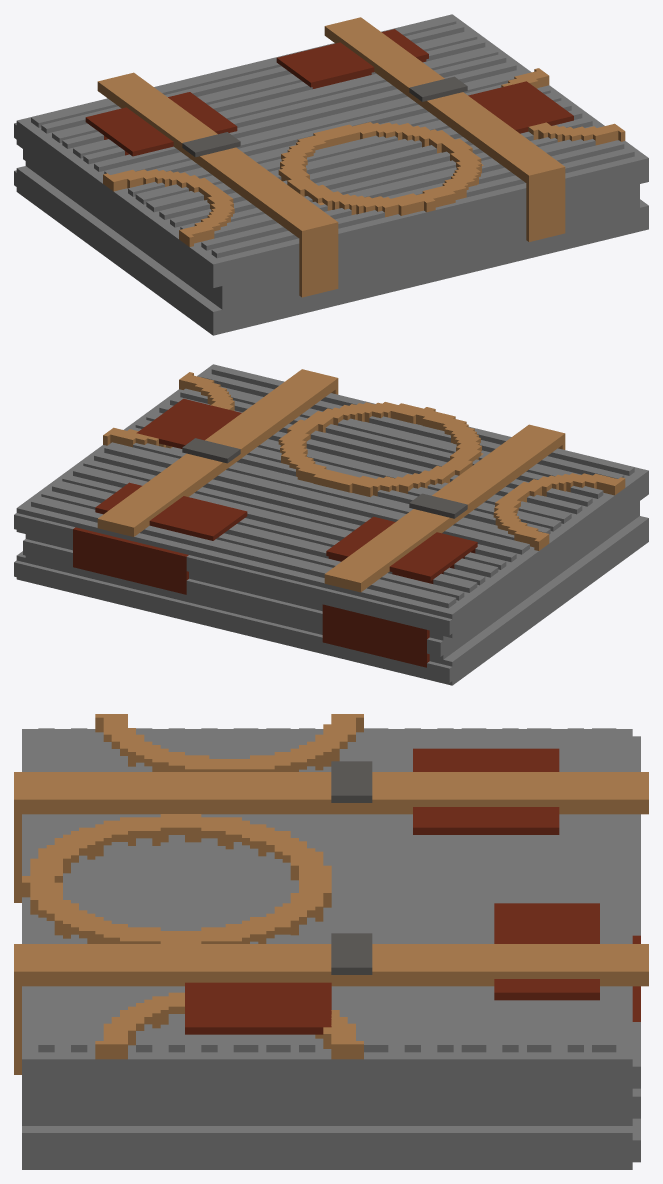
File: chainmail_junk_vest.glb
3 renders of one model, top to bottom at view 1: azimuth 30°, elevation 25°; view 2: azimuth 150°, elevation 25°; view 3: azimuth 270°, elevation 25°, orthographic. The views are drawn at different scales.
Parts seen in each view (by area): view 1: chainmail_junk_vest:compound; view 2: chainmail_junk_vest:compound; view 3: chainmail_junk_vest:compound.
Boxes of the visible parts, <box> form: chainmail_junk_vest:compound: <box>14,14,648,335</box>; chainmail_junk_vest:compound: <box>14,364,648,685</box>; chainmail_junk_vest:compound: <box>14,714,648,1169</box>.
Size of the model in its own units: 0.384 by 0.076 by 0.312.
